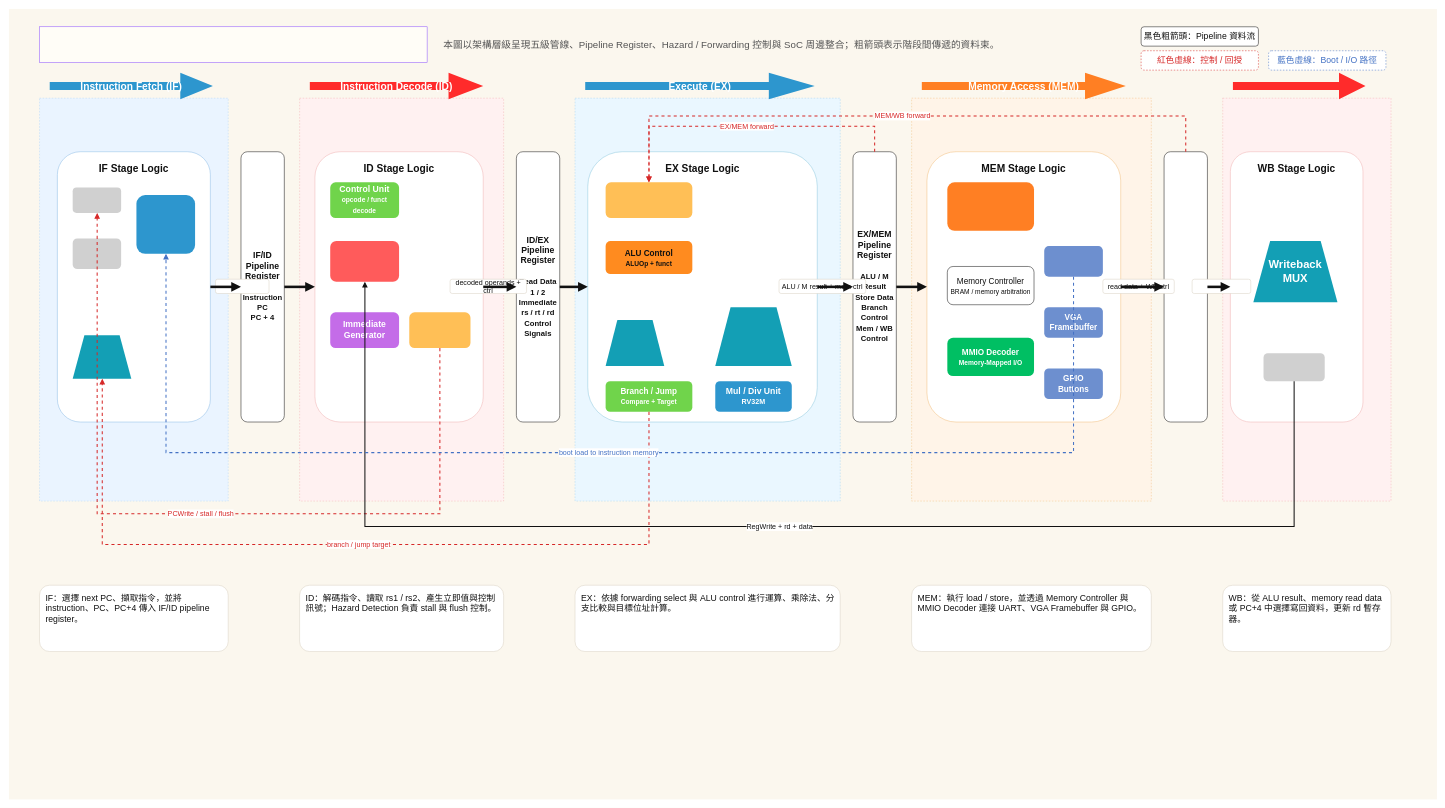
Some shapes in this 1445 by 808 pixel diagram are drawn without their labels. Here are the shapes that lost their labels. From the top down, the centre of each, then its label:
the point at 233,44: RISC-V RV32IM 五級管線 CPU 架構圖
the point at 1299,85: Write Back (WB)
the point at 96,200: PC
the point at 648,200: Forwarding Unit EX/MEM、MEM/WB bypass
the point at 990,206: Data Cache / Data Memory
the point at 165,224: Instruction Cache / Instruction Memory
the point at 96,253: PC + 4 Adder
the point at 364,261: Register File rs1 / rs2 / rd
the point at 1073,261: UART Bootloader
the point at 242,286: instr / PC / PC+4
the point at 1185,286: MEM/WB Pipeline Register Memory Read Data ALU Result PC + 4 rd + WB Control
the point at 1221,286: writeback data
the point at 439,330: Hazard Detection stall / flush
the point at 634,343: Operand MUX
the point at 753,336: ALU
the point at 101,356: Next PC MUX
the point at 1293,367: Write rd
